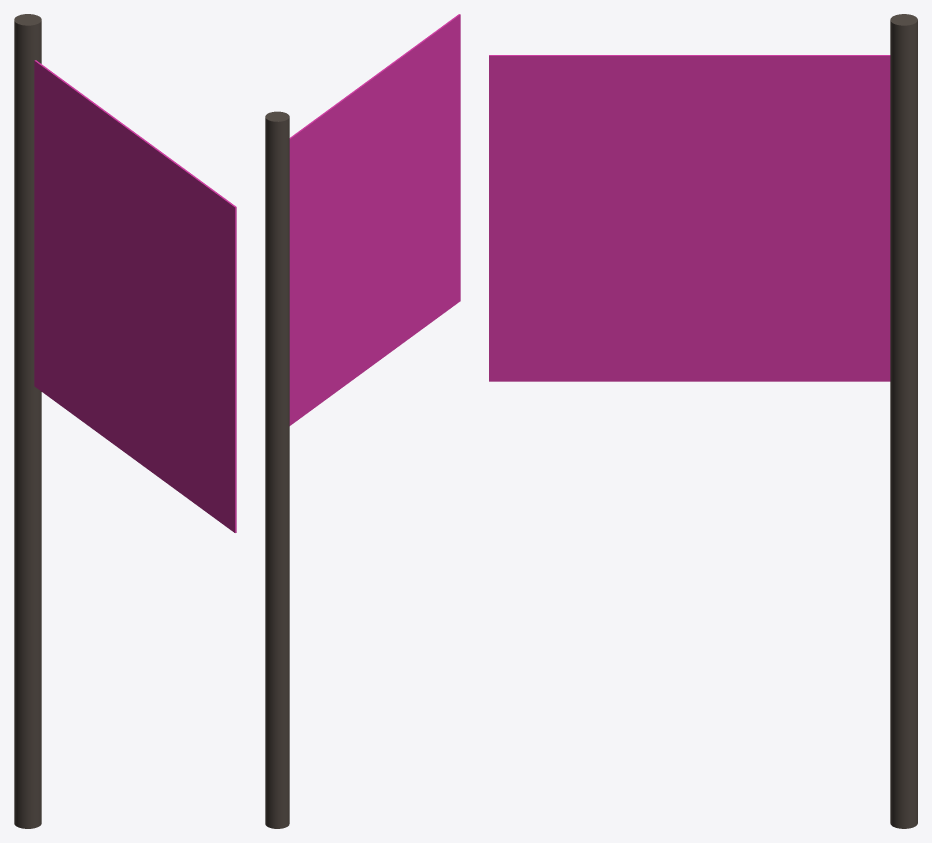
File: Pink flag.fbx
The picture shows the model from 3 angles, left to right: view 1: azimuth 30°, elevation 25°; view 2: azimuth 150°, elevation 25°; view 3: azimuth 270°, elevation 25°; orthographic projection. The views are drawn at different scales.
Visible parts, largest first — view 1: pPlane1, pCylinder1; view 2: pPlane1, pCylinder1; view 3: pPlane1, pCylinder1.
Boxes of the visible parts, x1,y1,x2,y2 form: pPlane1: (34, 60, 236, 532); pCylinder1: (14, 14, 41, 828); pPlane1: (289, 14, 460, 425); pCylinder1: (265, 111, 289, 828); pPlane1: (489, 55, 890, 381); pCylinder1: (890, 14, 917, 828).
Size of the model in its own units: 2 by 63.94 by 30.94.
